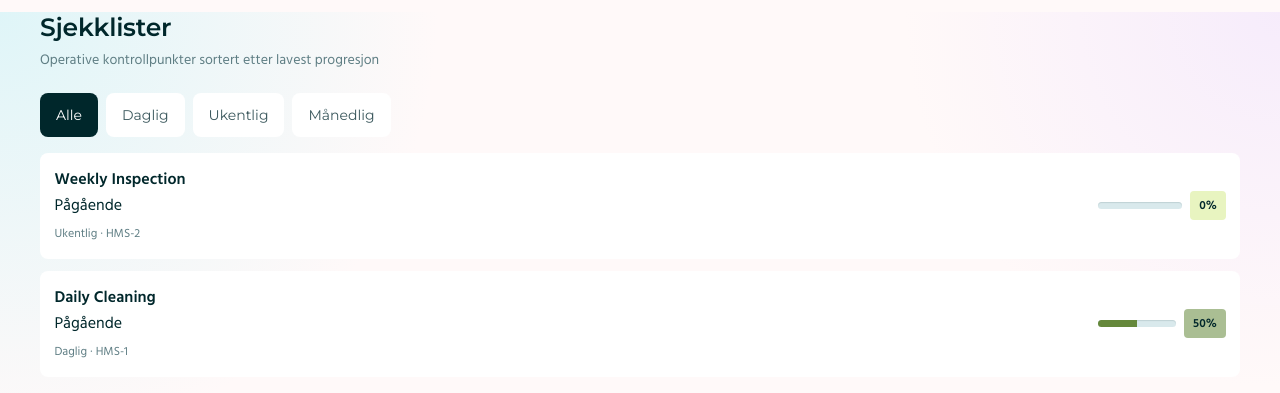
ChecklistsView › filters checklists by frequency
Expected: the number of elements with class "checklist-card" is 2, [40,153,1240,259]; [40,271,1240,377]
// Click 'Daglig' filter
Click the button with class "filter-chip" showing "Daglig". click: click(145, 115)
box: [106,93,184,137]
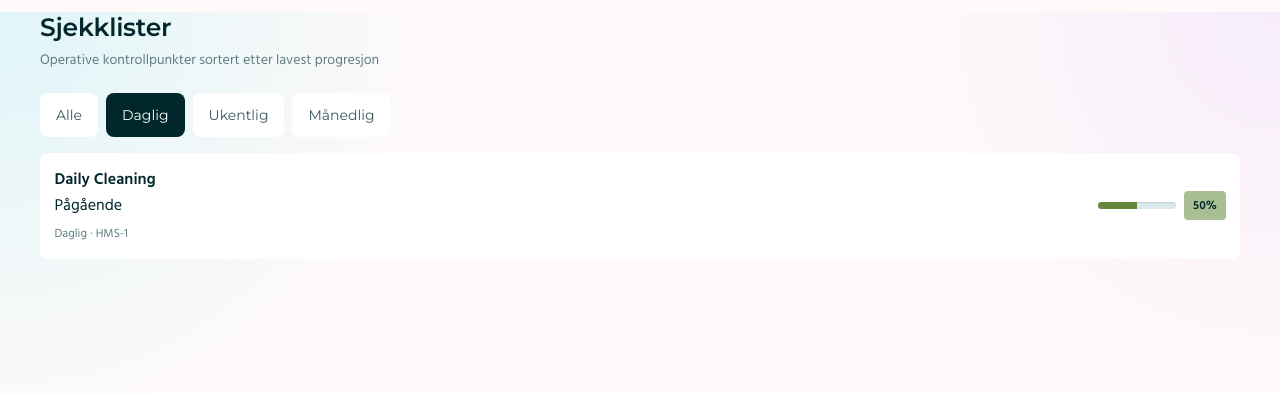
Expected: the text "Daily Cleaning" is shown, [54,167,156,194]
Result: the number of elements with class "checklist-card" is 1 at [40,153,1240,259]
Result: the text "Weekly Inspection" is gone
